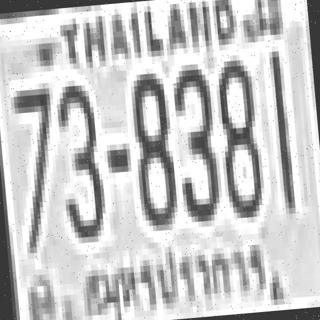N01: (267, 48, 294, 212)
N03: (51, 79, 104, 239), (170, 60, 219, 220)
N07: (9, 82, 63, 248)
N08: (213, 56, 263, 216), (126, 67, 175, 227)
P57: (84, 230, 272, 317)
